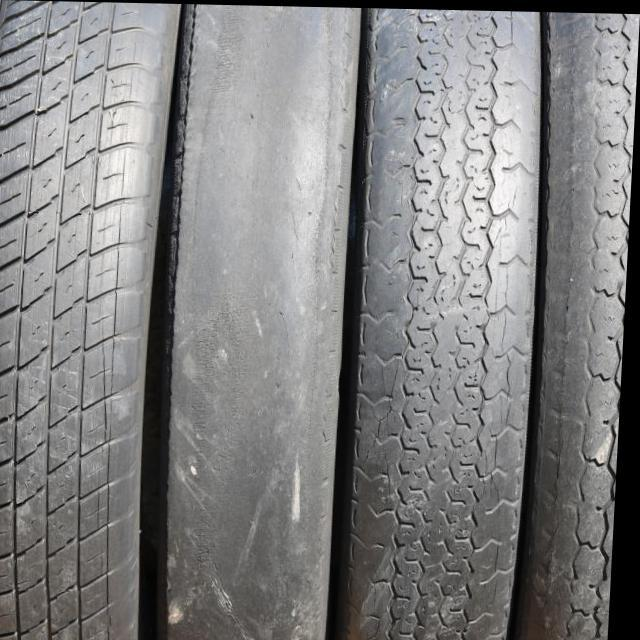Flat spots: (172, 0, 365, 639)
